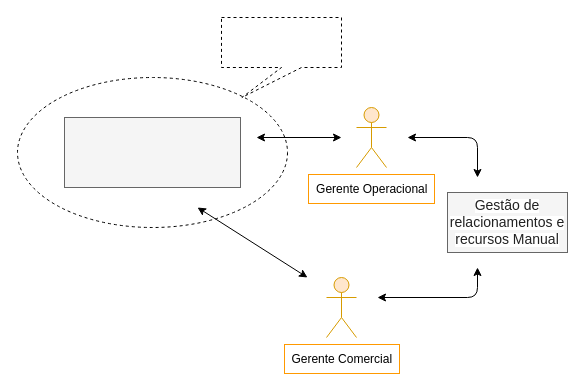
Some shapes in this 585 by 392 pixel diagram are drawn without their labels. The centre of each missing label's shape, as x and y in pixels:
ERP - Enterprise resource planning: [152,152]
Fronteira Sistêmica: [281,57]
